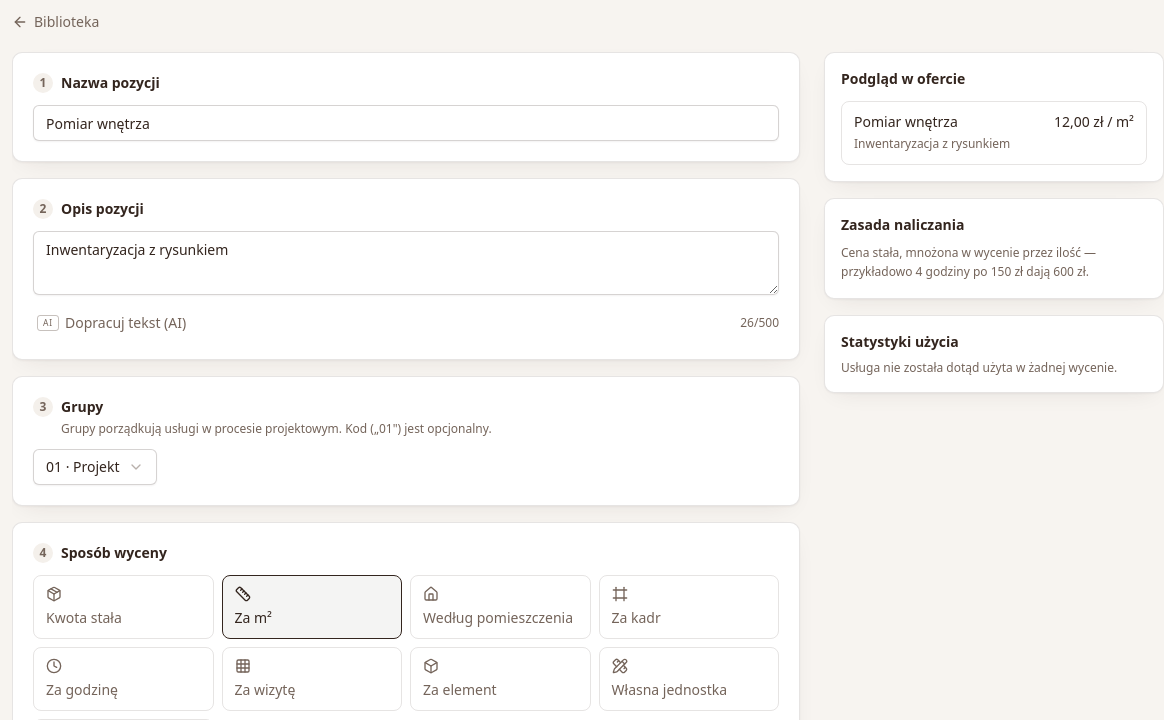
LibraryItemPage › podglad odswieza sie BEZ zapisu
Replace the text in the field named "Nazwa pozycji" with "Nowa nazwa" at coordinates (406, 123), box [33, 105, 779, 141]
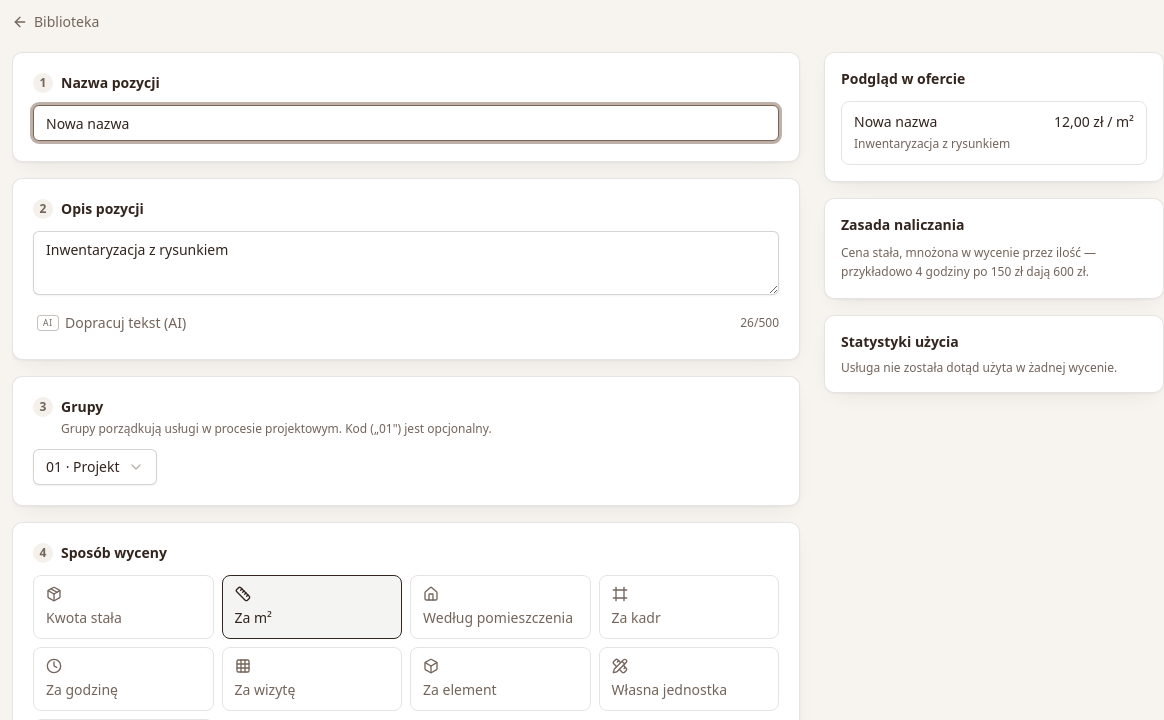
Expected: the text "Nowa nazwa" is shown, [854, 112, 937, 131]
